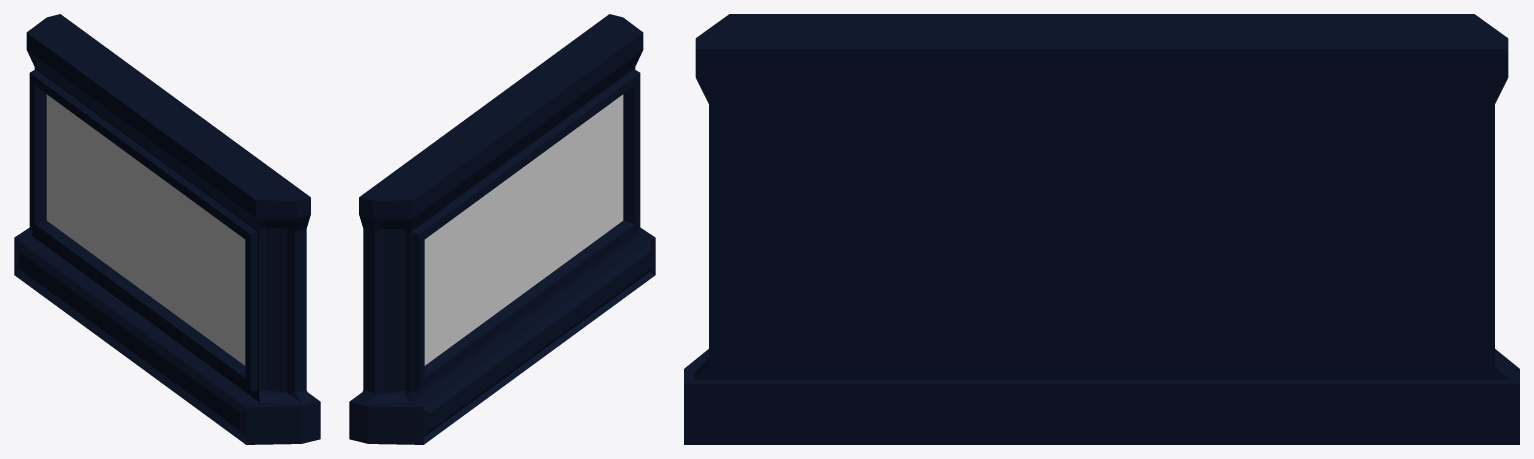
File: Fassade_Fenster.fbx
3 renders of one model, left to right at view 1: azimuth 30°, elevation 25°; view 2: azimuth 150°, elevation 25°; view 3: azimuth 270°, elevation 25°, orthographic. The views are drawn at different scales.
Visible parts, largest first — view 1: fassade 2.002; view 2: fassade 2.002; view 3: fassade 2.002.
Part boxes in pixels (x1,y1,x2,y2): fassade 2.002: (14, 14, 320, 444); fassade 2.002: (349, 14, 655, 444); fassade 2.002: (684, 14, 1519, 444).
Size of the model in its own units: 379 by 1408 by 2728.
